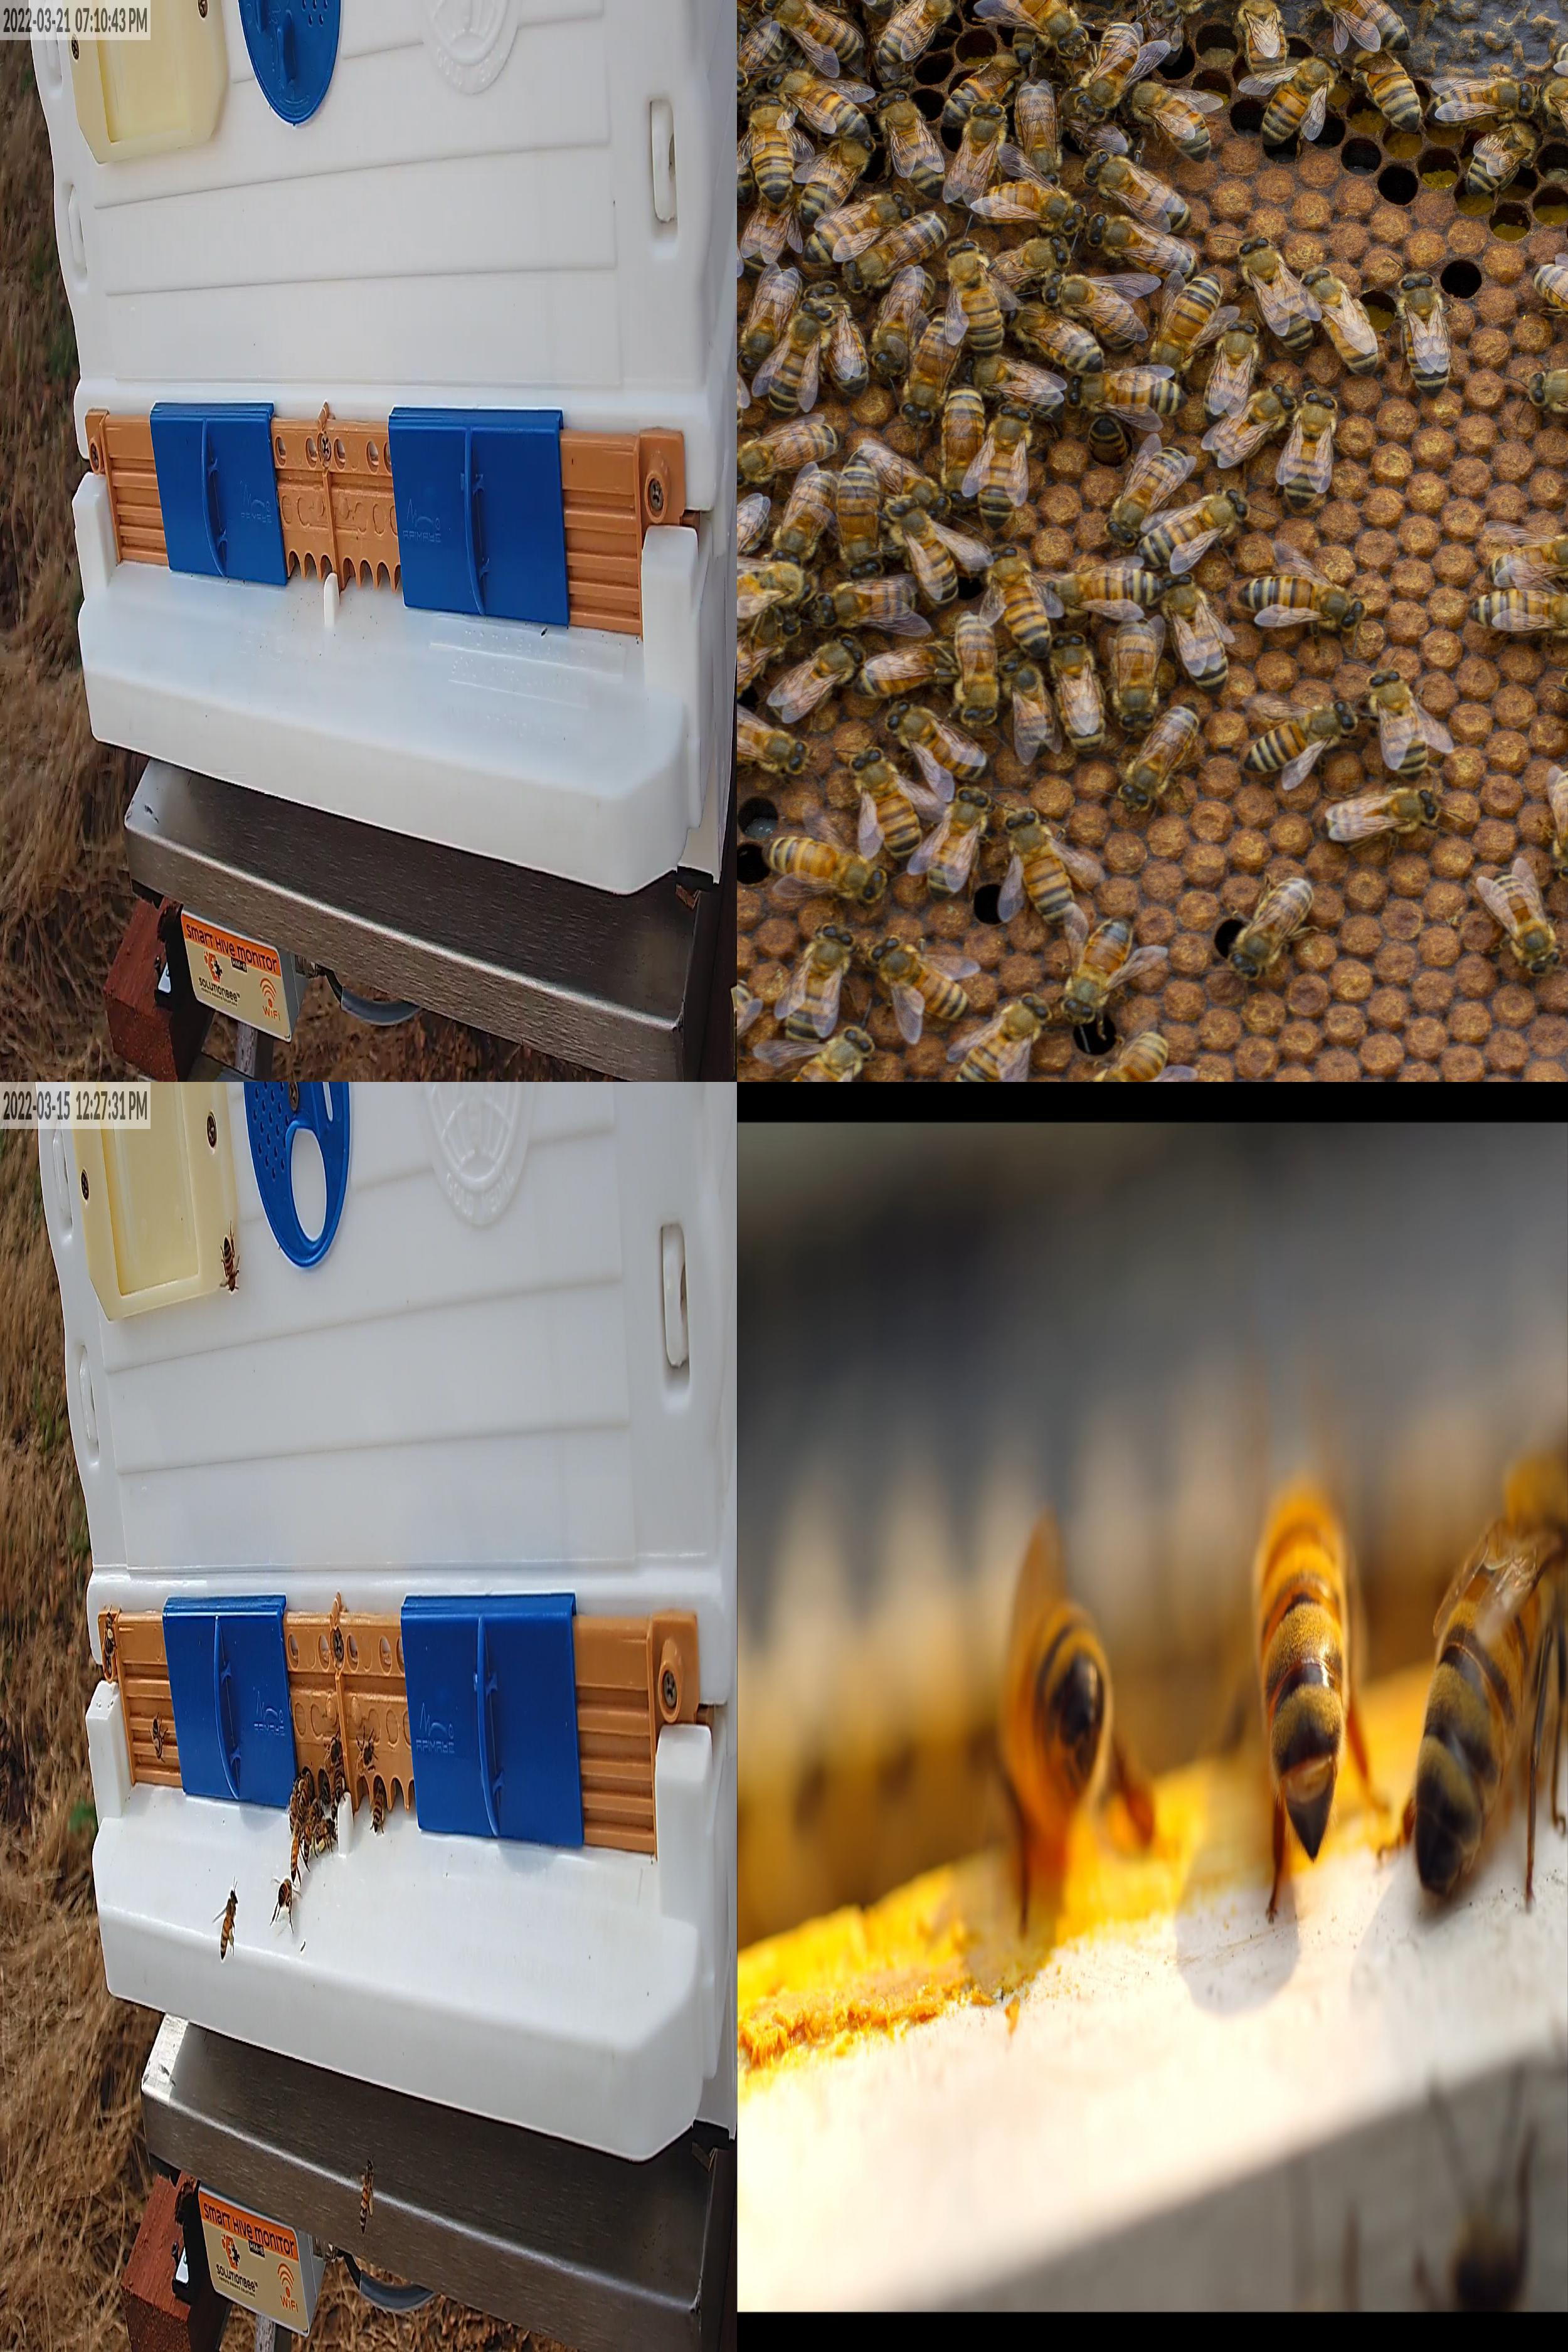bee: (1416, 1463, 1568, 1885), (1251, 1486, 1358, 1830), (1004, 1589, 1106, 1839), (1136, 488, 1248, 567), (1239, 236, 1313, 352), (1122, 702, 1200, 807), (1087, 152, 1193, 229), (1004, 810, 1074, 927), (852, 749, 924, 863), (1160, 574, 1228, 693), (786, 926, 854, 1045), (847, 212, 948, 290), (1242, 702, 1356, 772), (957, 994, 1048, 1081), (763, 837, 886, 901), (1232, 878, 1313, 976), (871, 936, 969, 1017), (1304, 268, 1375, 376), (889, 497, 957, 609), (892, 702, 990, 779), (1260, 51, 1340, 143), (1108, 445, 1186, 539), (803, 194, 912, 262), (1087, 215, 1197, 282), (772, 637, 863, 718), (768, 301, 831, 416), (987, 546, 1052, 658), (1491, 871, 1561, 975), (1045, 275, 1139, 350), (878, 93, 945, 199), (805, 283, 868, 396), (768, 66, 868, 136), (927, 789, 989, 903), (800, 131, 873, 224), (1066, 915, 1132, 1017), (1006, 303, 1104, 371), (859, 445, 950, 518), (1153, 273, 1218, 376), (961, 355, 1064, 420), (947, 240, 1004, 355), (903, 313, 963, 425), (1050, 633, 1104, 756), (1127, 84, 1211, 163), (1211, 383, 1295, 462), (737, 423, 840, 486), (1052, 82, 1134, 161), (1239, 577, 1365, 628), (1370, 670, 1428, 780), (980, 406, 1031, 530), (740, 268, 801, 367), (765, 0, 861, 63), (875, 269, 935, 371), (1400, 275, 1449, 396), (775, 471, 837, 567), (947, 102, 1003, 206), (854, 640, 959, 697), (737, 563, 816, 637), (1284, 392, 1333, 509), (838, 448, 882, 579), (1080, 21, 1139, 117), (943, 56, 1024, 126), (737, 607, 794, 703), (1069, 371, 1186, 418), (975, 182, 1083, 233), (1354, 51, 1421, 133), (987, 0, 1085, 54), (1325, 791, 1437, 838), (1001, 651, 1052, 754), (878, 0, 959, 65), (1204, 322, 1255, 423), (1046, 569, 1164, 612), (782, 1027, 873, 1081), (941, 385, 984, 502), (1468, 124, 1536, 196), (1083, 1025, 1169, 1081), (1314, 0, 1411, 49), (1015, 82, 1060, 186), (751, 98, 794, 203), (1426, 84, 1535, 126), (816, 581, 919, 625), (1470, 590, 1568, 635), (955, 611, 996, 721), (744, 186, 793, 273), (865, 2, 912, 91), (1116, 616, 1155, 724), (987, 236, 1069, 287), (1486, 534, 1568, 583), (1237, 0, 1286, 81), (737, 716, 805, 770), (1012, 0, 1062, 61), (1134, 0, 1181, 65), (737, 24, 784, 86), (1533, 266, 1568, 347), (737, 502, 767, 583), (1540, 79, 1568, 157), (1531, 371, 1568, 427), (1087, 416, 1129, 462), (737, 121, 756, 205), (1554, 768, 1568, 878), (1153, 0, 1241, 14), (222, 1234, 236, 1288), (355, 1741, 374, 1778), (290, 1813, 301, 1879), (289, 1776, 301, 1830), (325, 1739, 341, 1771), (304, 1808, 313, 1864), (306, 1799, 322, 1825), (278, 1878, 290, 1909), (152, 1718, 161, 1757), (322, 1766, 331, 1804)
pollenbee: (220, 1892, 236, 1956), (361, 2158, 373, 2231), (373, 1780, 385, 1832), (299, 1771, 313, 1815), (317, 1818, 334, 1852), (103, 1612, 115, 1654), (334, 1769, 345, 1809)
